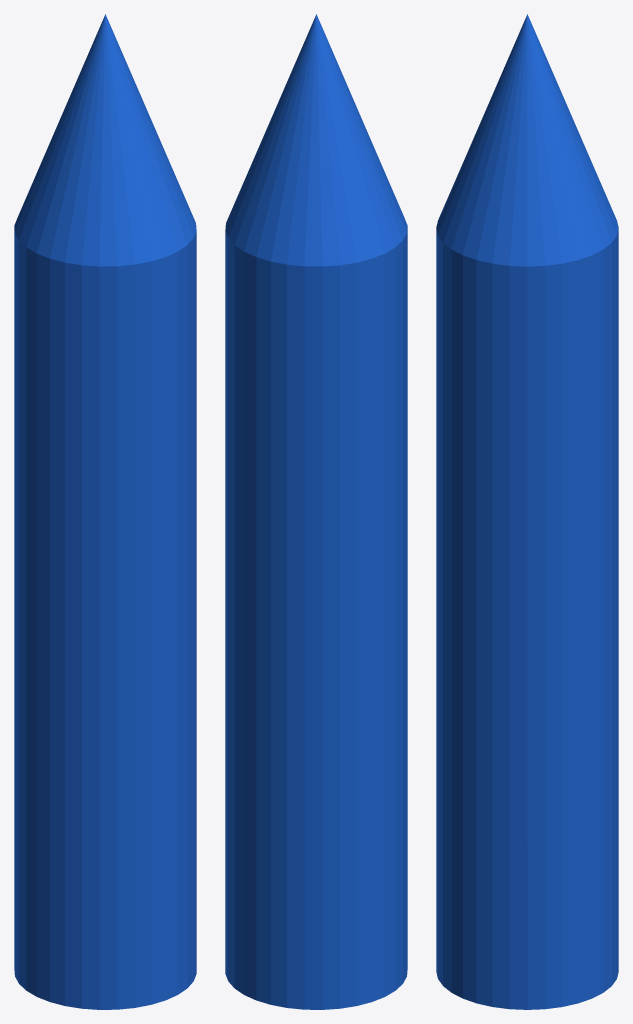
The model's file is Rocket.glb.
3 views of the same model, side by side, from view 1: azimuth 30°, elevation 25°; view 2: azimuth 150°, elevation 25°; view 3: azimuth 270°, elevation 25° (orthographic).
Visible parts, largest first — view 1: Node1; view 2: Node1; view 3: Node1.
Boxes of the visible parts, left/top/right/bottom form: Node1: left=14, top=14, right=196, bottom=1009; Node1: left=225, top=14, right=407, bottom=1009; Node1: left=436, top=14, right=618, bottom=1009.
Bounding box in the file's own units: 2 × 11.57 × 2.
